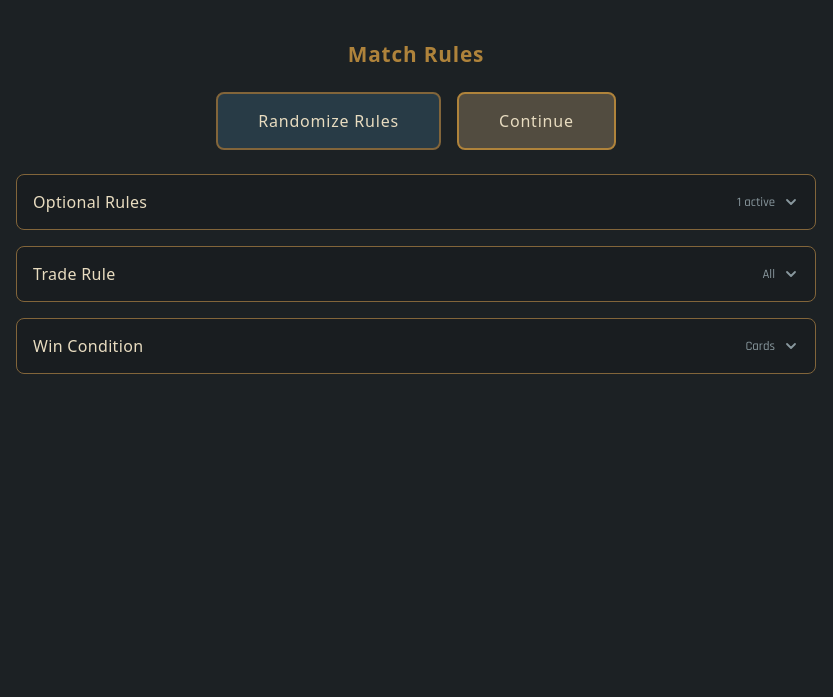
Test: RuleSelectScreen rule selection › respects an initialRuleSet prop
Click the button "Optional Rules 1 active" at coordinates (90, 202), box [17,175,815,229]
(page scrolled)
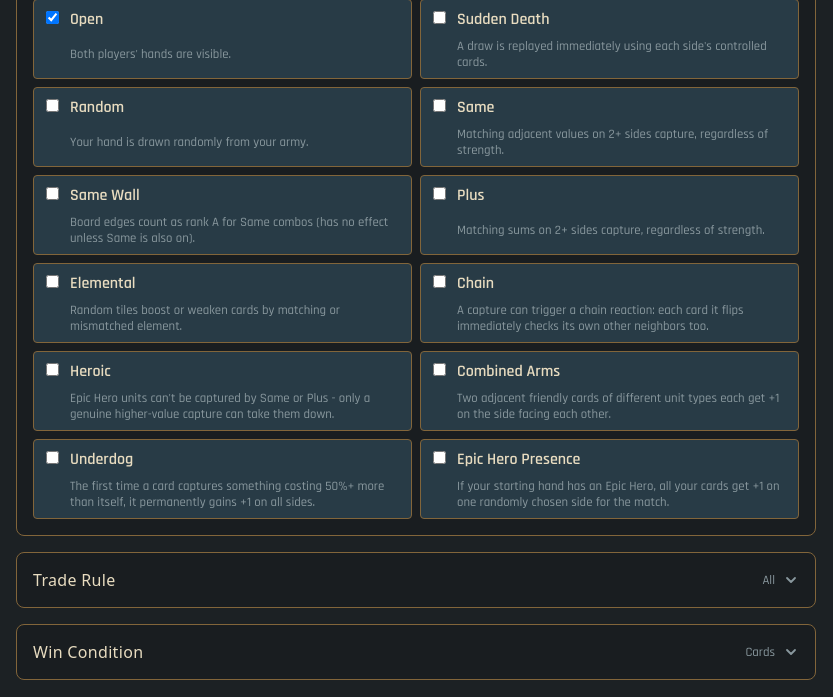
Expected: the checkbox labelled "Open Both players' hands are visible." is checked, [46,11,59,24]
Click the button "Trade Rule All" at coordinates (74, 580), box [17,553,815,607]
(page scrolled)
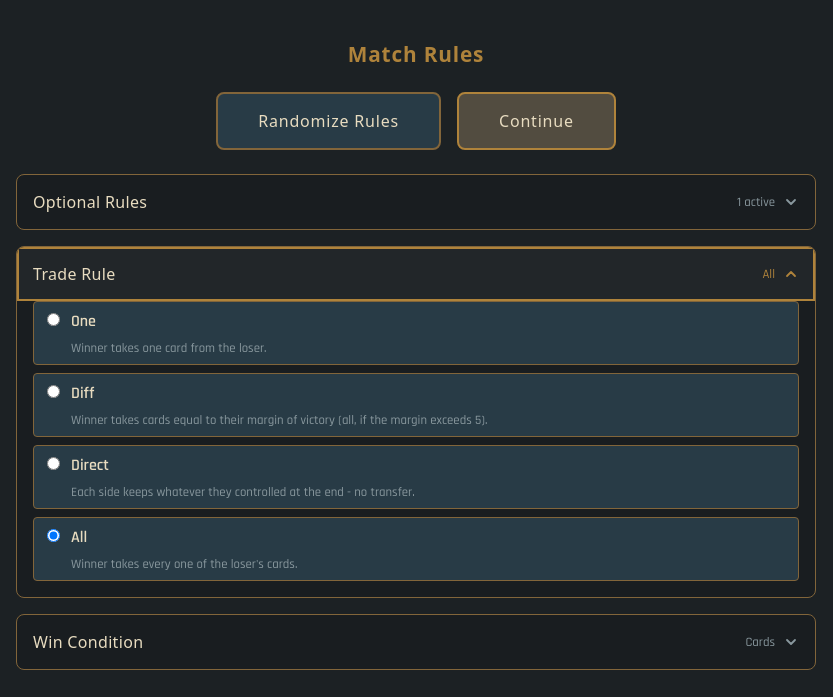
Expected: the radio button labelled "All Winner takes every one of the loser's cards." is checked, [47,529,60,542]
